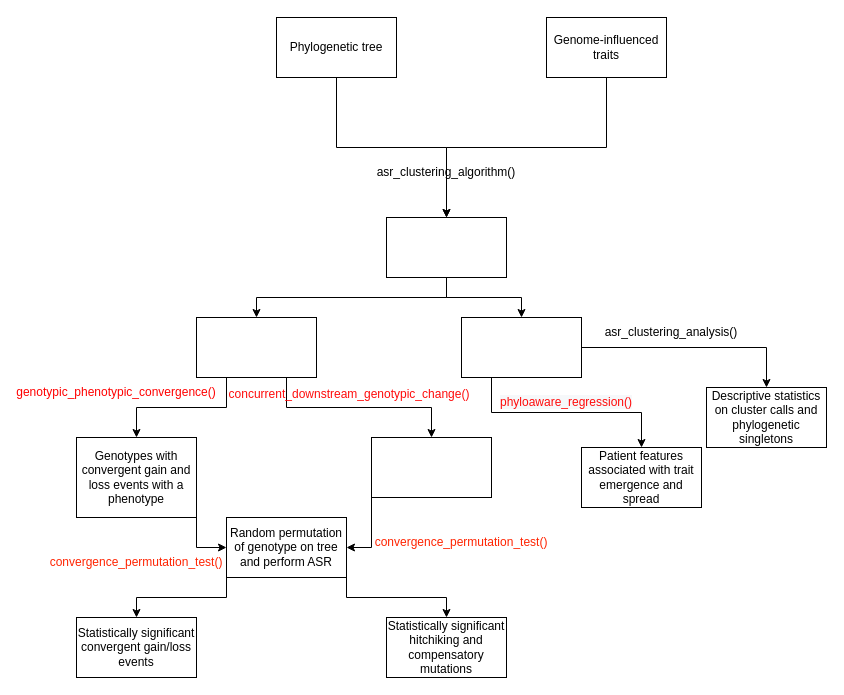
Some shapes in this 844 by 695 pixel diagram are drawn without their labels. Here are the shapes that lost their labels. From the top down, the centre of each, then its label:
At [446,247]: "Phylocluster object".
At [256,347]: "Ancestral state reconstruction estimates for internal nodes and tips".
At [521,347]: "Tip dataframe: Cluster and singleton calls".
At [431,467]: "Hitchiking and compensatory mutations".
